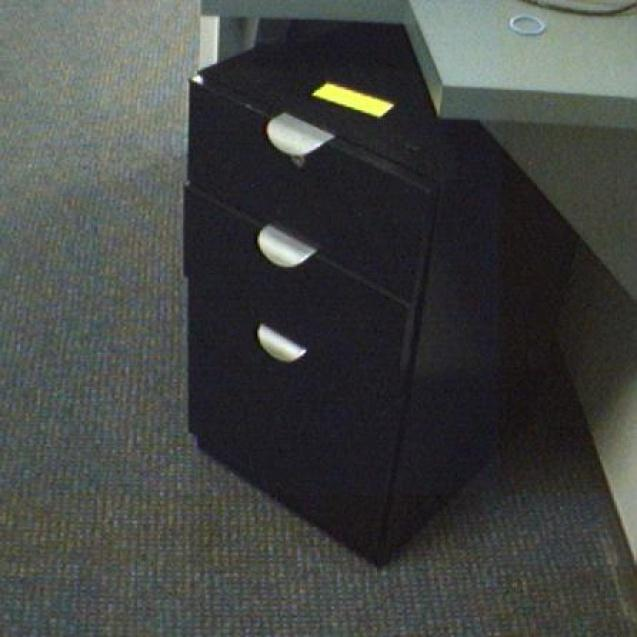Rak: (179, 71, 440, 567)
